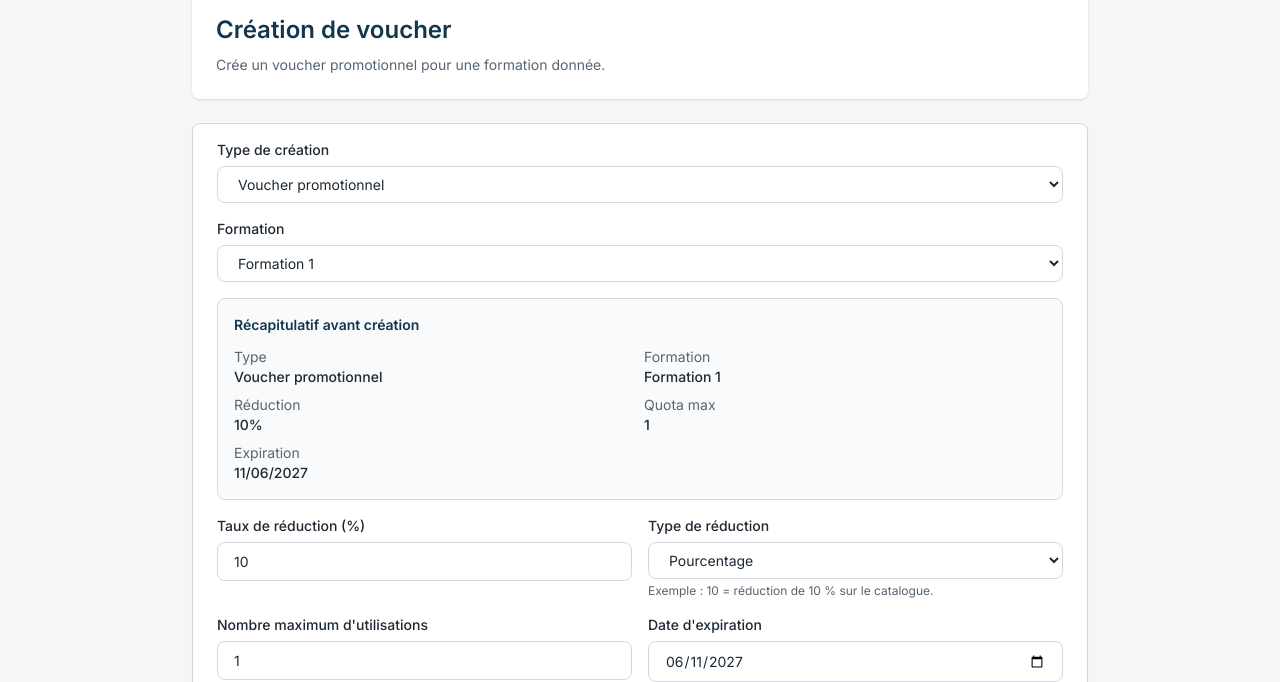
Test case: VoucherForm › crée un voucher organisation lié à un devis avec le runtime
Select "Voucher organisation" in the dropdown labelled "Type de création" at (640, 184), box [217,166,1063,203]
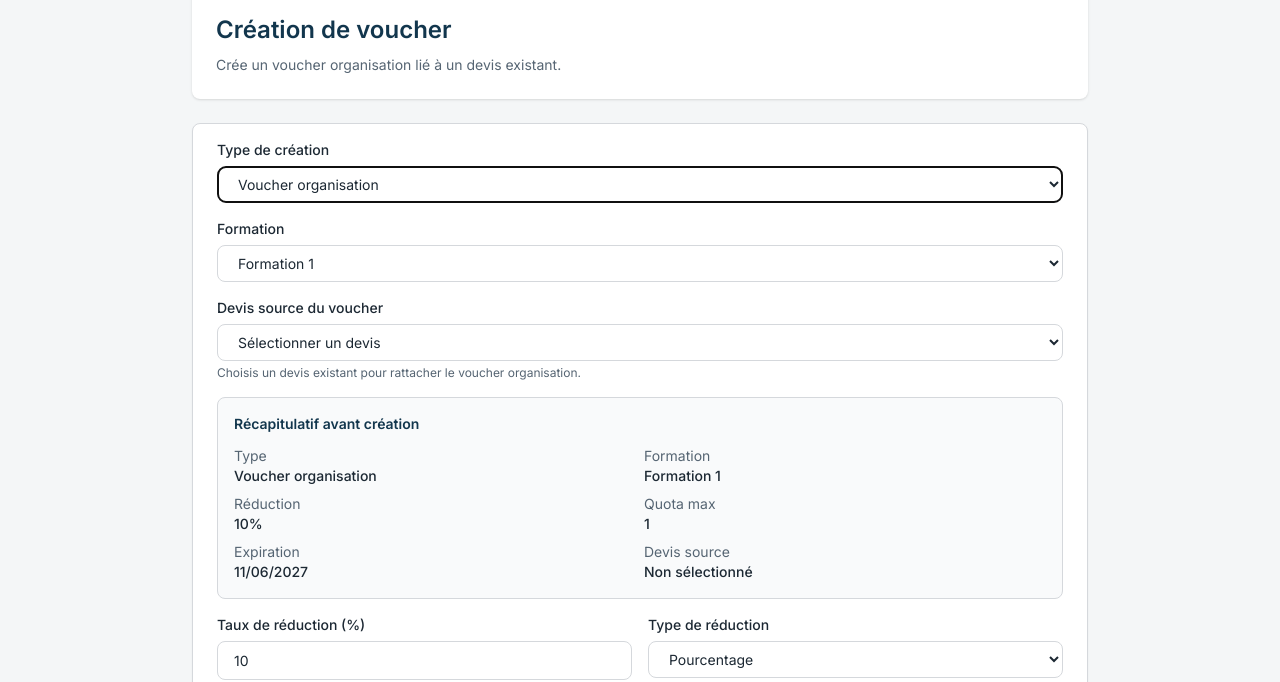
Select "FORGES-DEVIS-2026-001 - Org Test - Formation 1" in the dropdown labelled "Devis source du voucher" at (640, 342), box [217,324,1063,361]
(page scrolled)
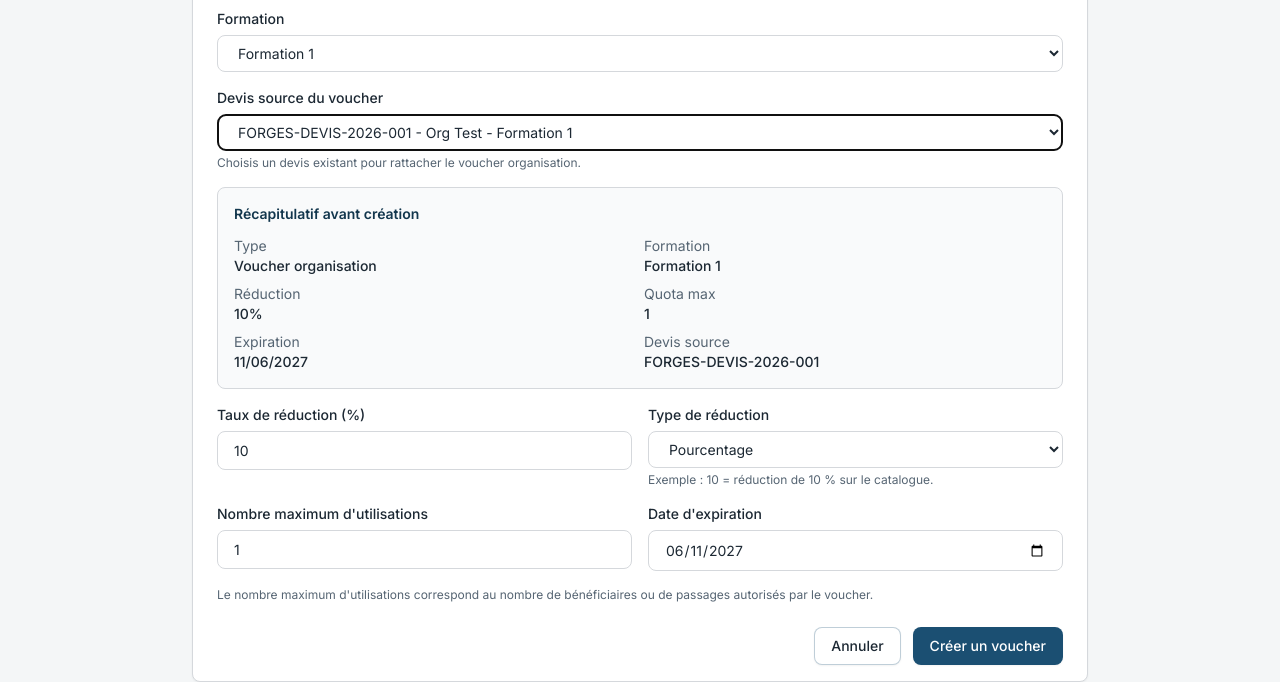
Click the button "Créer un voucher" at (988, 646), box [913,627,1063,665]
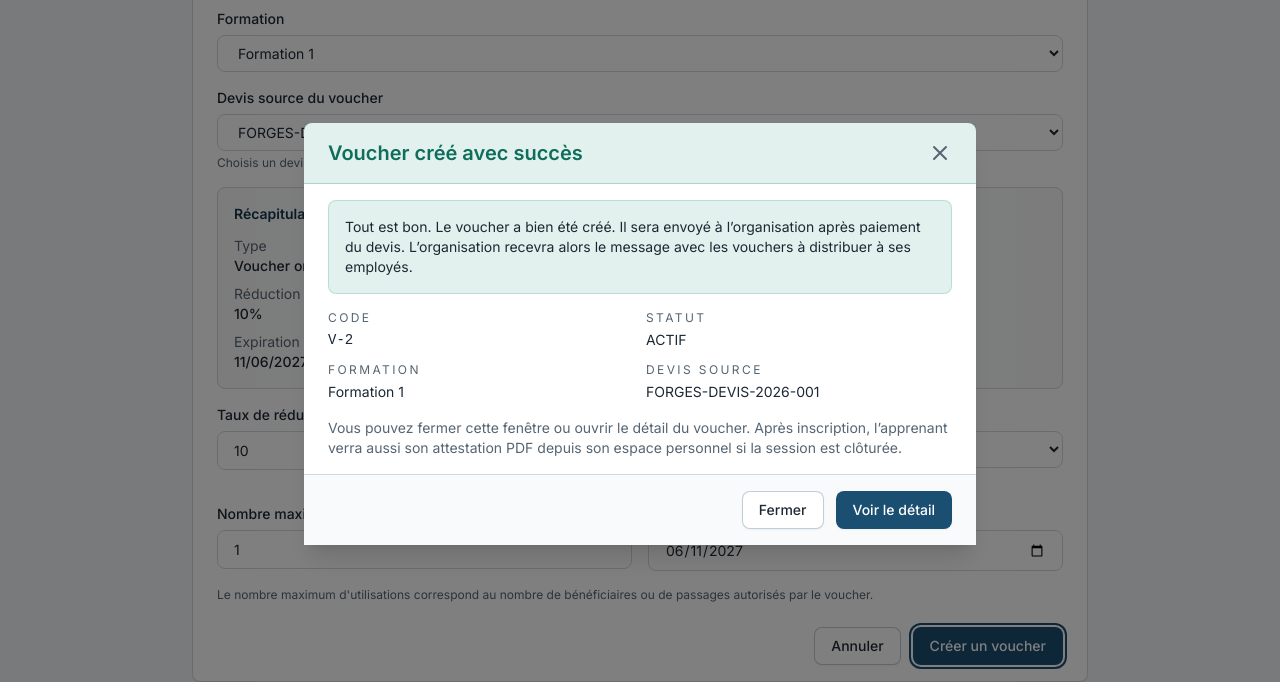
Expected: the heading "Voucher créé avec succès" is shown, [328,139,583,167]
Expected: the text "Il sera envoyé à l’organisation après paiement du devis" is shown, [345,218,921,255]
Expected: the text "L’organisation recevra alors le message avec les vouchers à distribuer à ses employés" is shown, [345,238,911,275]
